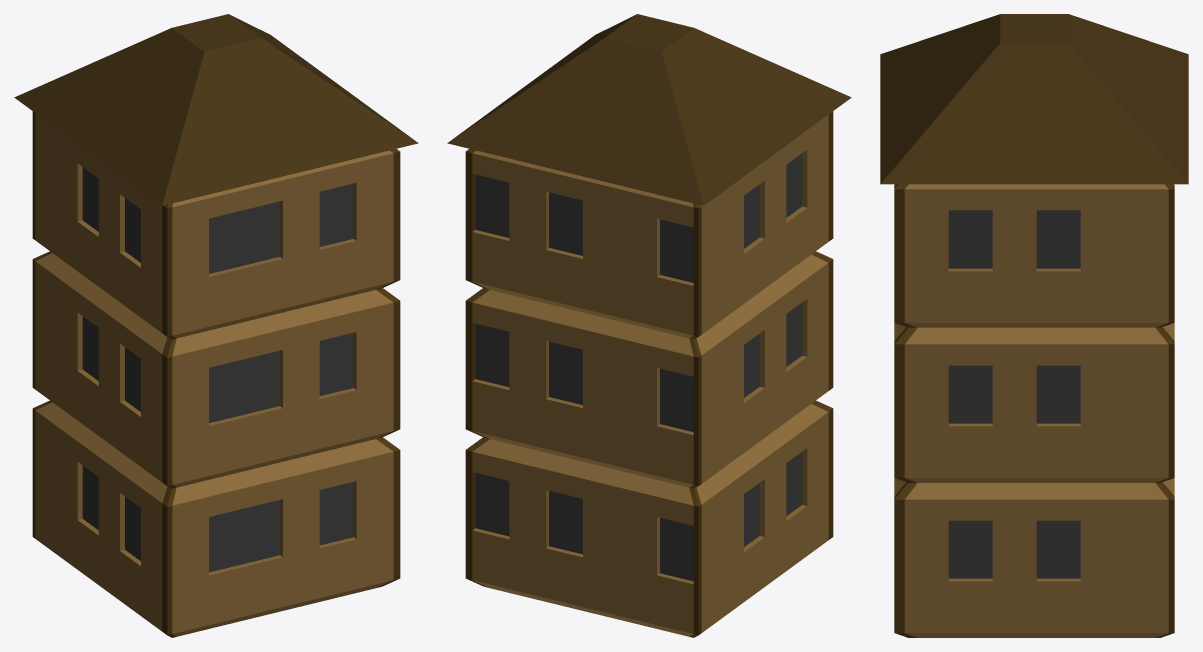
File: Building3.fbx
3 renders of one model, left to right at view 1: azimuth 30°, elevation 25°; view 2: azimuth 150°, elevation 25°; view 3: azimuth 270°, elevation 25°, orthographic. The views are drawn at different scales.
Parts seen in each view (by area): view 1: Cube, Cube.001; view 2: Cube, Cube.001; view 3: Cube, Cube.001.
Boxes of the visible parts, x1,y1,x2,y2 form: Cube: (32, 111, 400, 637); Cube.001: (14, 14, 418, 205); Cube: (465, 111, 833, 637); Cube.001: (447, 14, 851, 205); Cube: (894, 184, 1174, 637); Cube.001: (880, 14, 1188, 184).
Size of the model in its own units: 990 by 1973 by 990.
